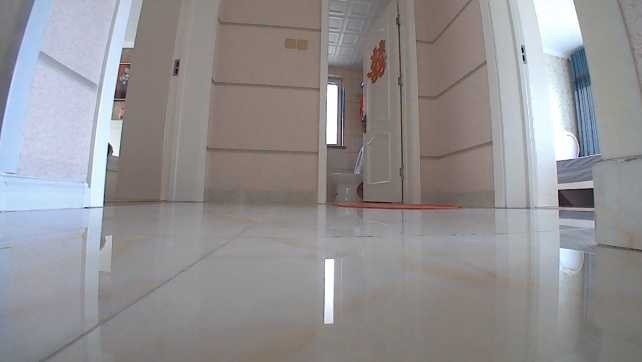bed: (553, 128, 599, 205)
blanket: (330, 201, 464, 211)
door_anno: (359, 2, 421, 203)
toilet: (330, 145, 363, 202)
